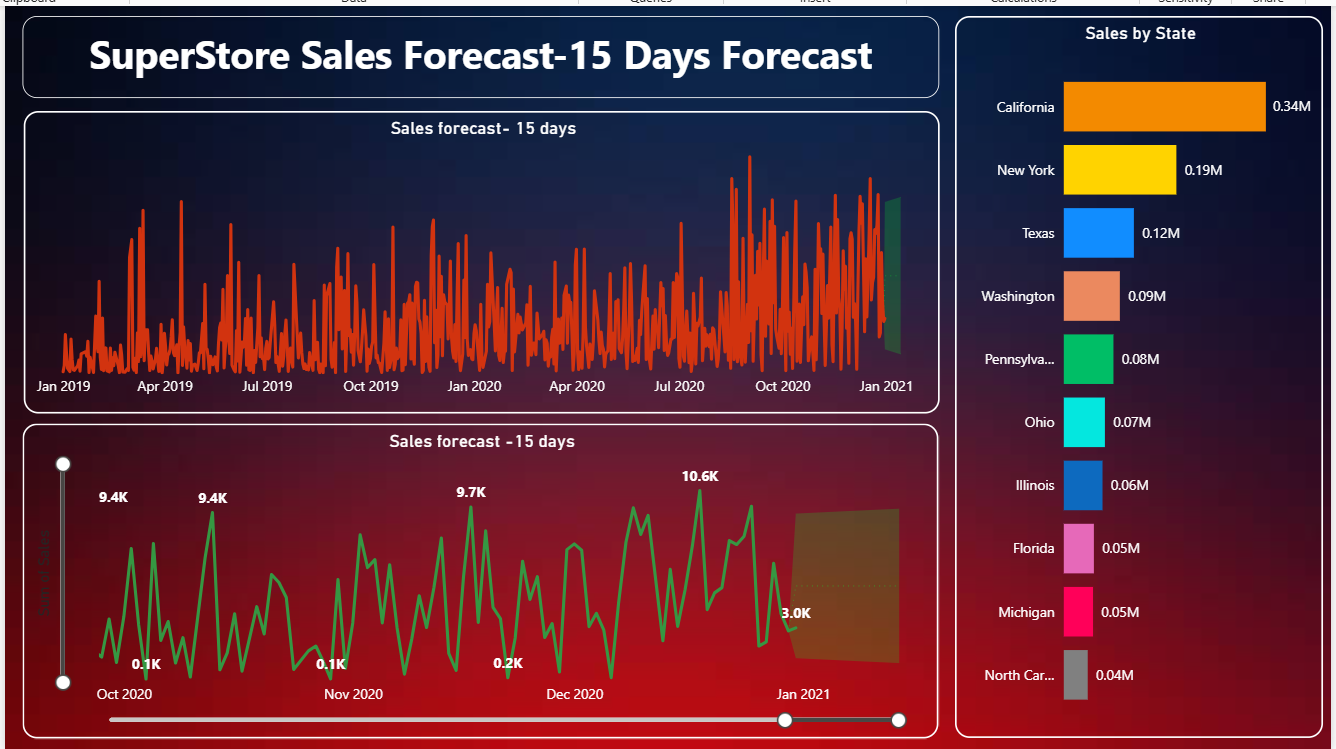

Layout of this report page (visuals, bound fields, positions):
{"tool":"powerbi","page":{"name":"Page 2","canvas":[1280,720],"ordinal":1},"visuals":[{"type":"lineChart","title":"Sales forecast- 15 days","fields":{"Y":["Sum(SuperStore_Sales_Dataset.Sales)"],"Category":["SuperStore_Sales_Dataset.Order Date"]},"box":[18.1,101.3,884.3,292],"z":0},{"type":"lineChart","title":"Sales forecast -15 days","fields":{"Y":["Sum(SuperStore_Sales_Dataset.Sales)"],"Category":["SuperStore_Sales_Dataset.Order Date"]},"box":[16.9,403,884.3,304],"z":1000},{"type":"barChart","title":"Sales by State","fields":{"Category":["SuperStore_Sales_Dataset.State"],"Y":["Sum(SuperStore_Sales_Dataset.Sales)"]},"box":[916.6,9.6,355.4,697.1],"z":2000},{"type":"textbox","box":[16.5,9.6,885.1,79.6],"z":3000}]}

Visuals, with their boxes in screenshot pixels (x1, y1, x2, y2):
"Sales forecast- 15 days" lineChart: rect(0, 101, 938, 411)
"Sales forecast -15 days" lineChart: rect(0, 421, 936, 744)
"Sales by State" barChart: rect(953, 3, 1330, 744)
textbox: rect(0, 3, 937, 88)
